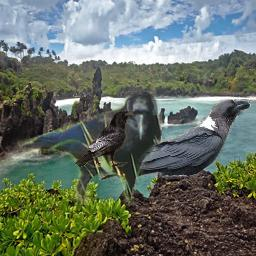Crow: (17, 91, 162, 205), (98, 99, 251, 182), (74, 110, 133, 167)
